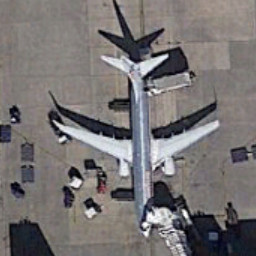Airplane: (45, 39, 226, 243)
